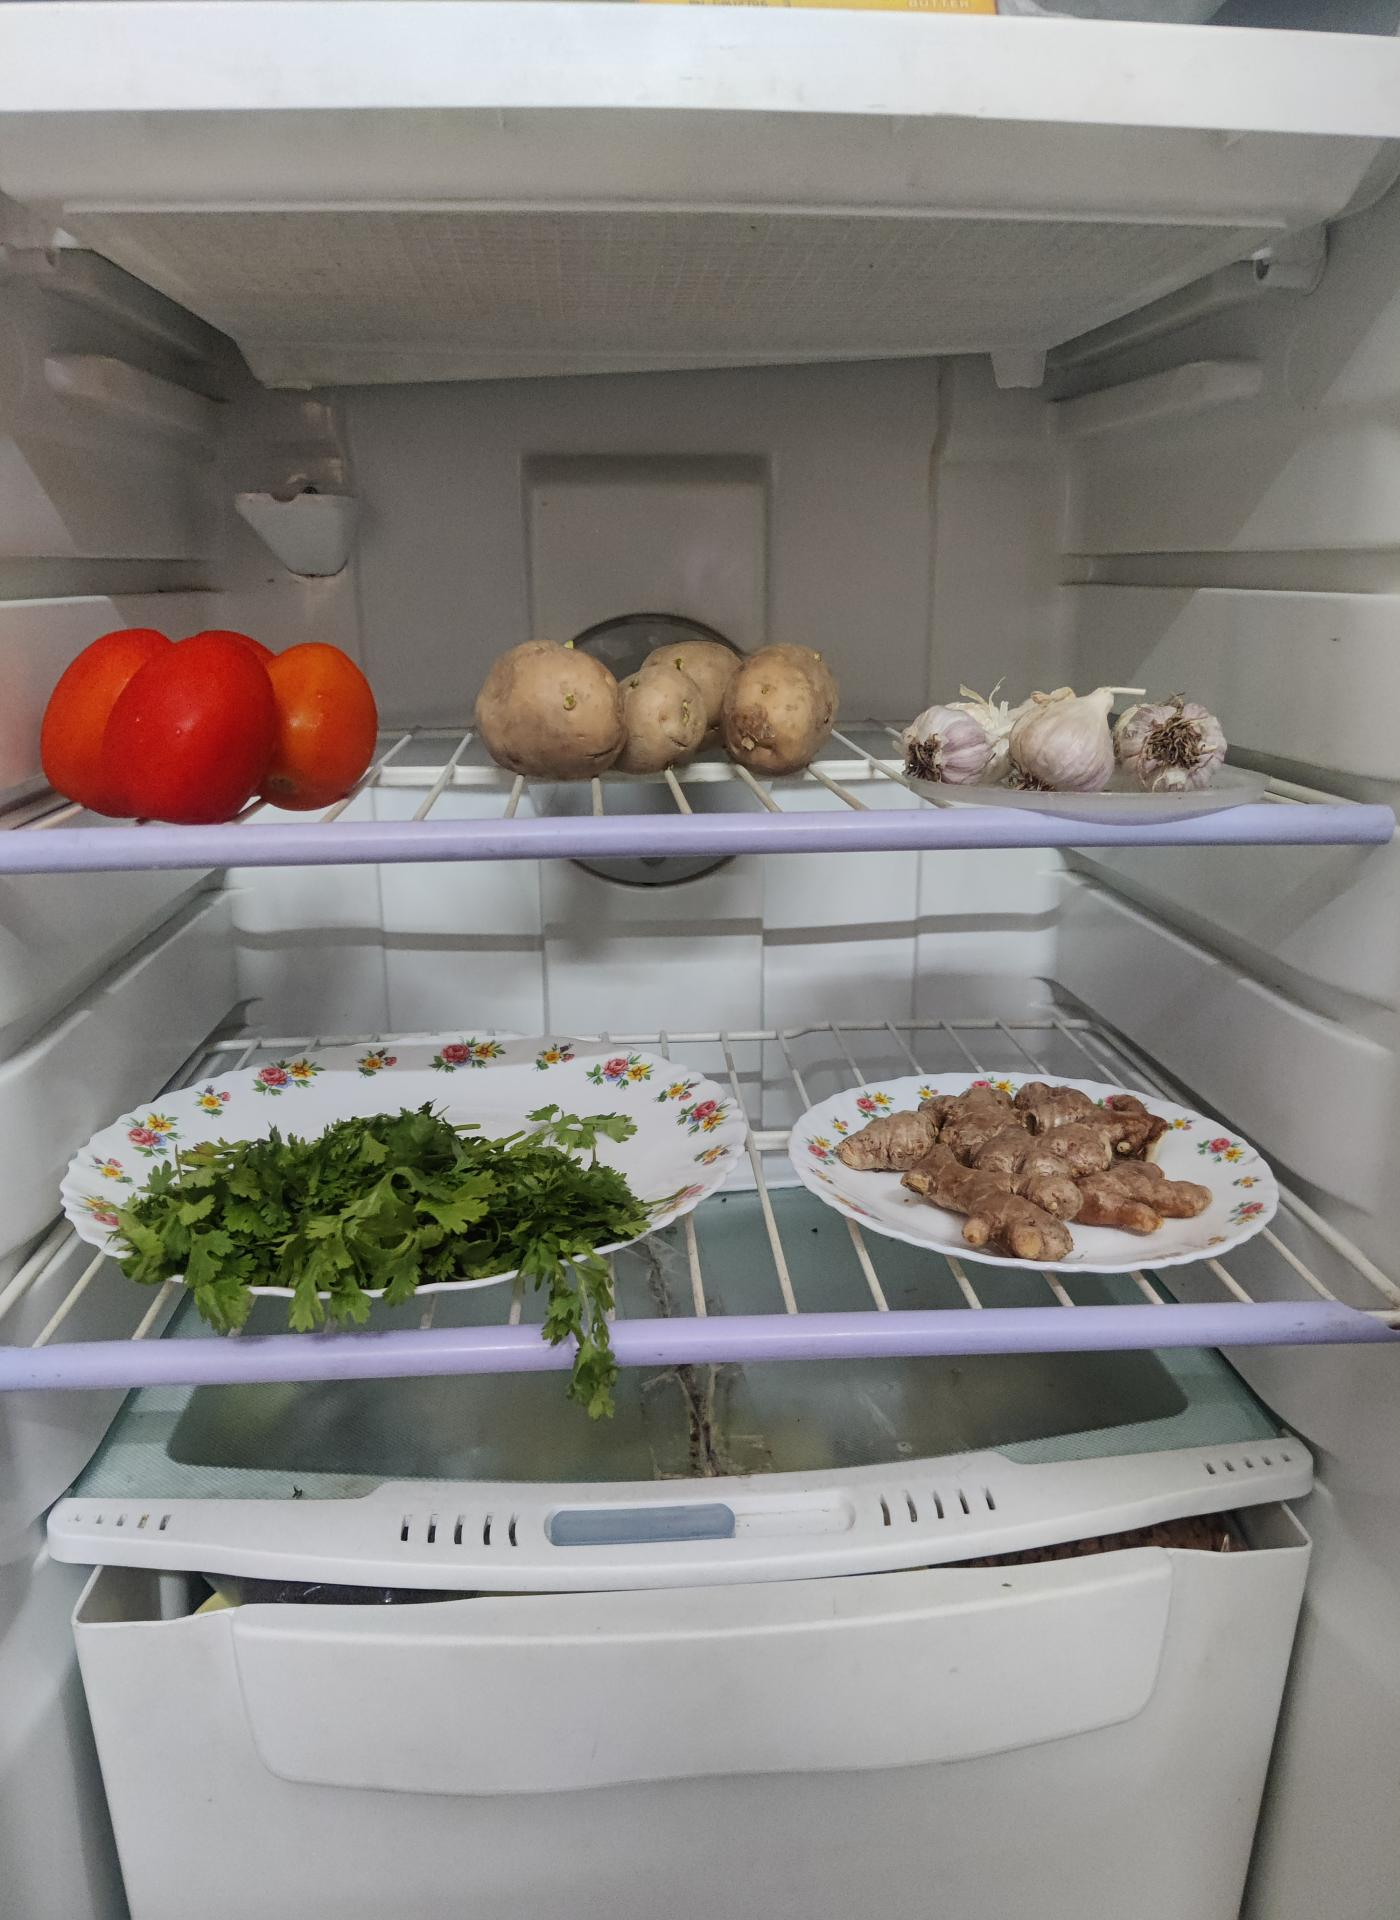coriander: (112, 1103, 662, 1315)
garlic: (899, 683, 1232, 787)
ginger: (826, 1081, 1199, 1263)
potato: (470, 619, 836, 774)
tomato: (39, 620, 386, 817)
